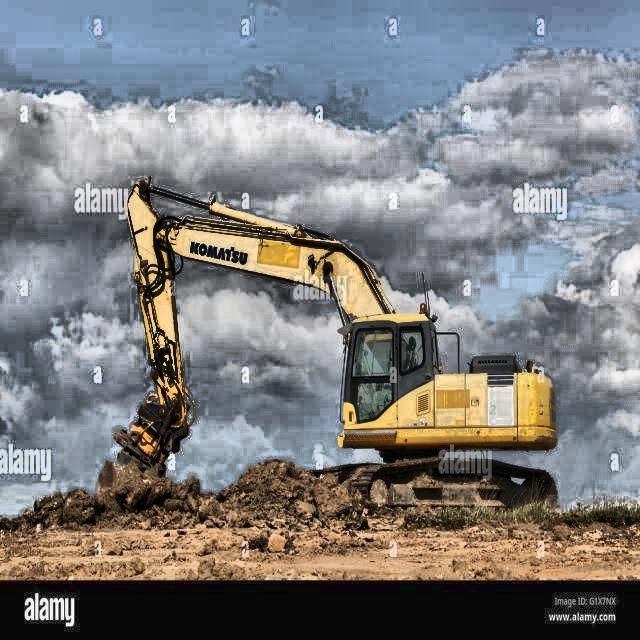excavator: (114, 176, 562, 523)
